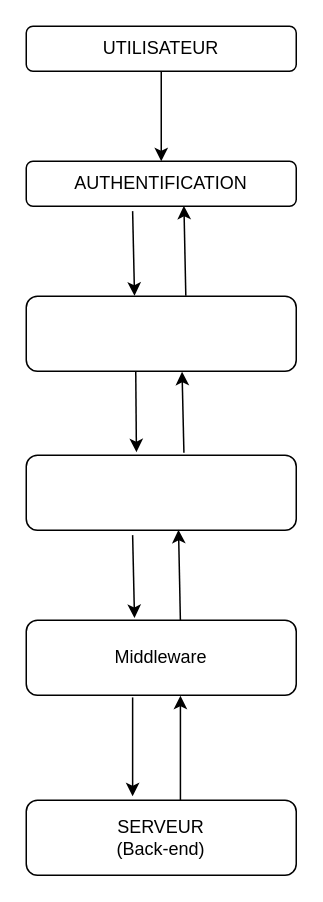
Some shapes in this 323 by 902 pixel diagram are drawn without their labels. The shapes that lost their labels are listed below. From the top down, each one's centre as x and y in pixels, then its label:
point 160,333: INTERFACE UTILISATEUR (Front-end)
point 160,492: API
